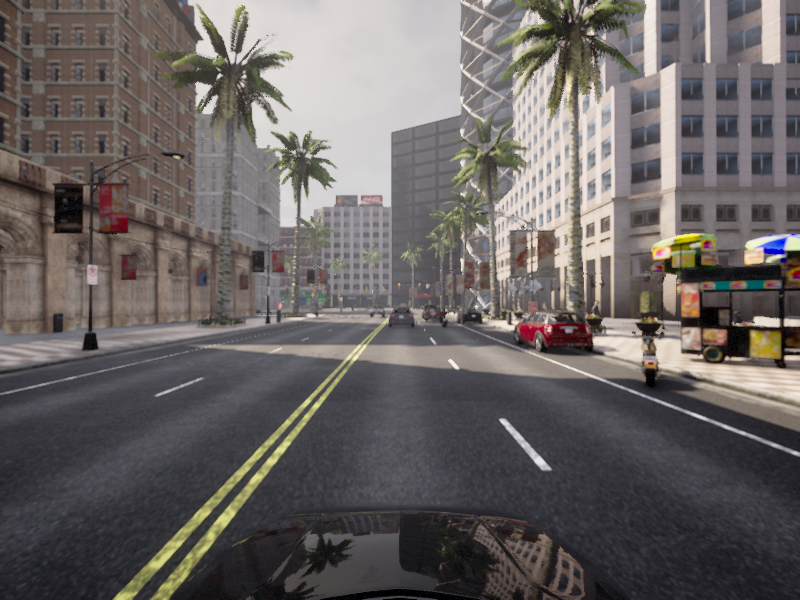vehicle: (387, 306, 415, 327), (423, 306, 444, 321), (437, 307, 449, 328)
